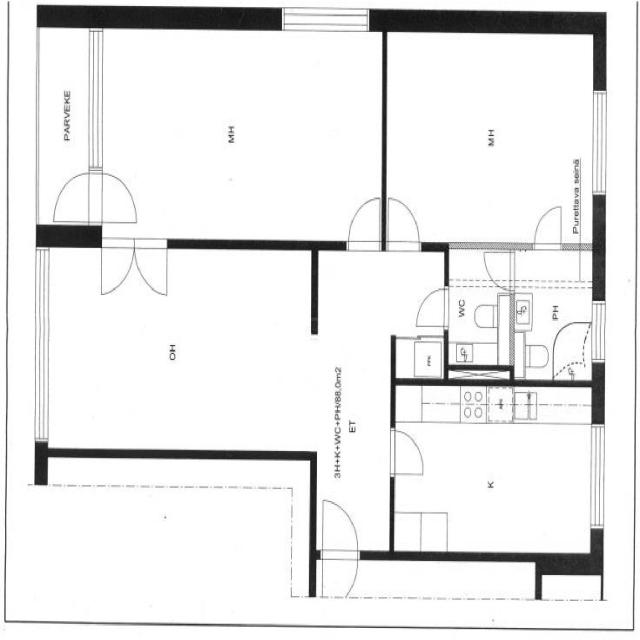door: (97, 25, 368, 244), (316, 495, 364, 601), (45, 166, 126, 222), (383, 190, 427, 256), (342, 190, 385, 256), (386, 422, 428, 486), (410, 282, 452, 338), (528, 199, 566, 256), (481, 245, 513, 292)
window: (26, 243, 61, 452), (80, 23, 112, 174), (273, 3, 374, 39), (588, 82, 613, 205), (586, 417, 610, 536), (590, 293, 609, 369)
zone: (91, 29, 386, 238), (384, 27, 596, 248), (390, 387, 598, 565), (510, 247, 598, 383), (445, 246, 511, 374), (95, 234, 176, 302), (72, 170, 148, 223)
